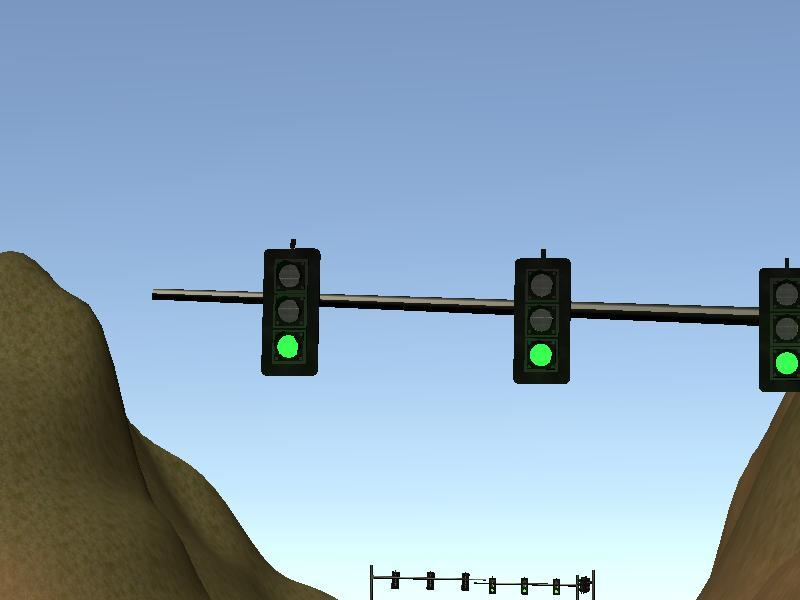Green: (513, 257, 571, 385), (262, 249, 318, 377), (758, 269, 800, 391), (488, 577, 497, 595), (552, 578, 561, 596), (520, 576, 528, 594)
